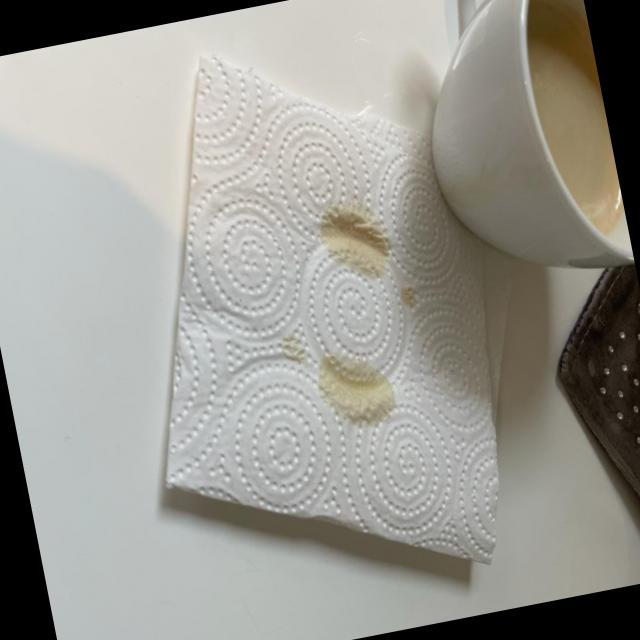organic waste: (84, 6, 576, 618)
